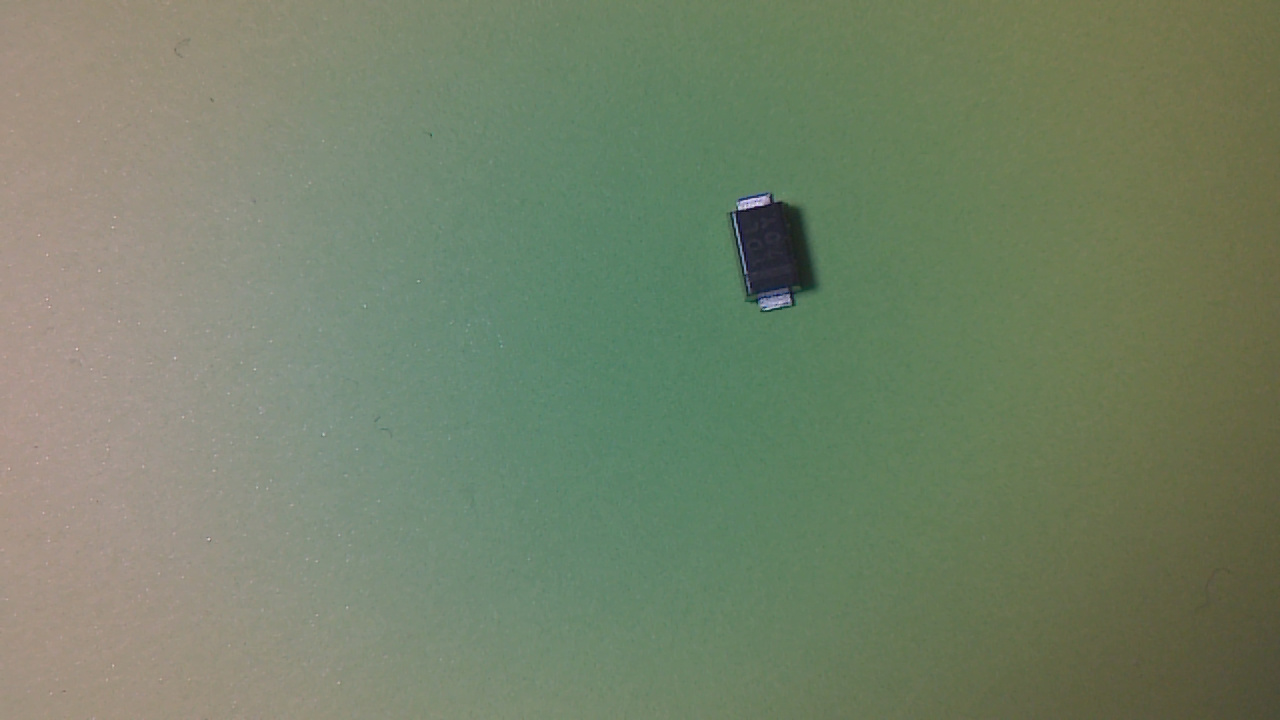Diode: (731, 198, 800, 324)
